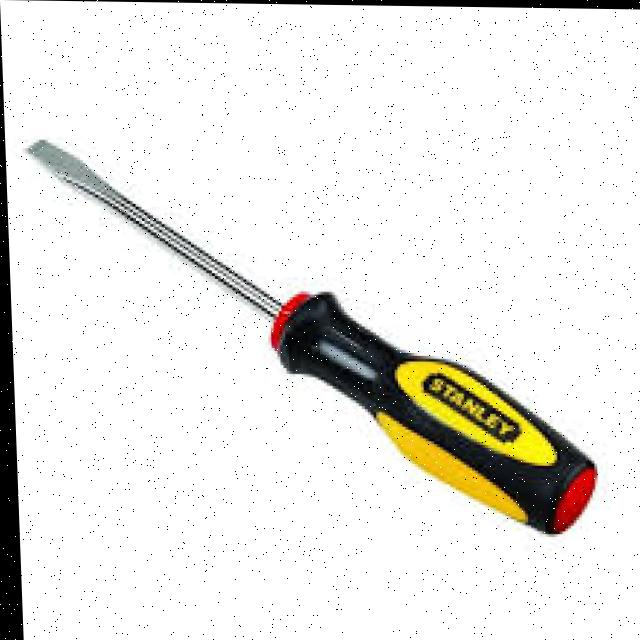Screwdriver: (27, 140, 592, 531)
